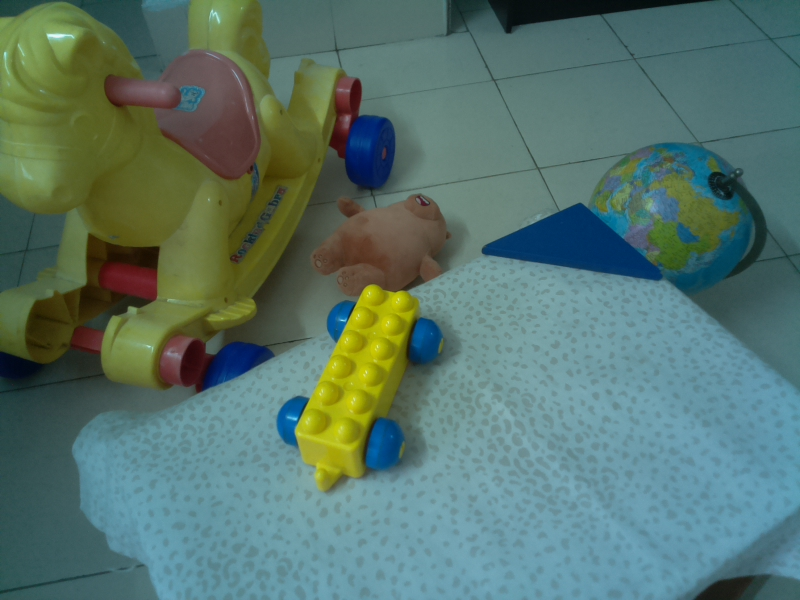Triangle: (481, 203, 664, 289)
toy_Car: (279, 285, 448, 489)
